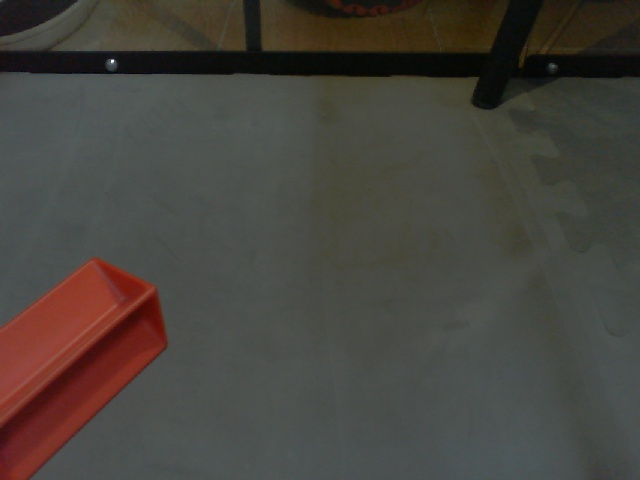RedSample: (1, 252, 166, 480)
